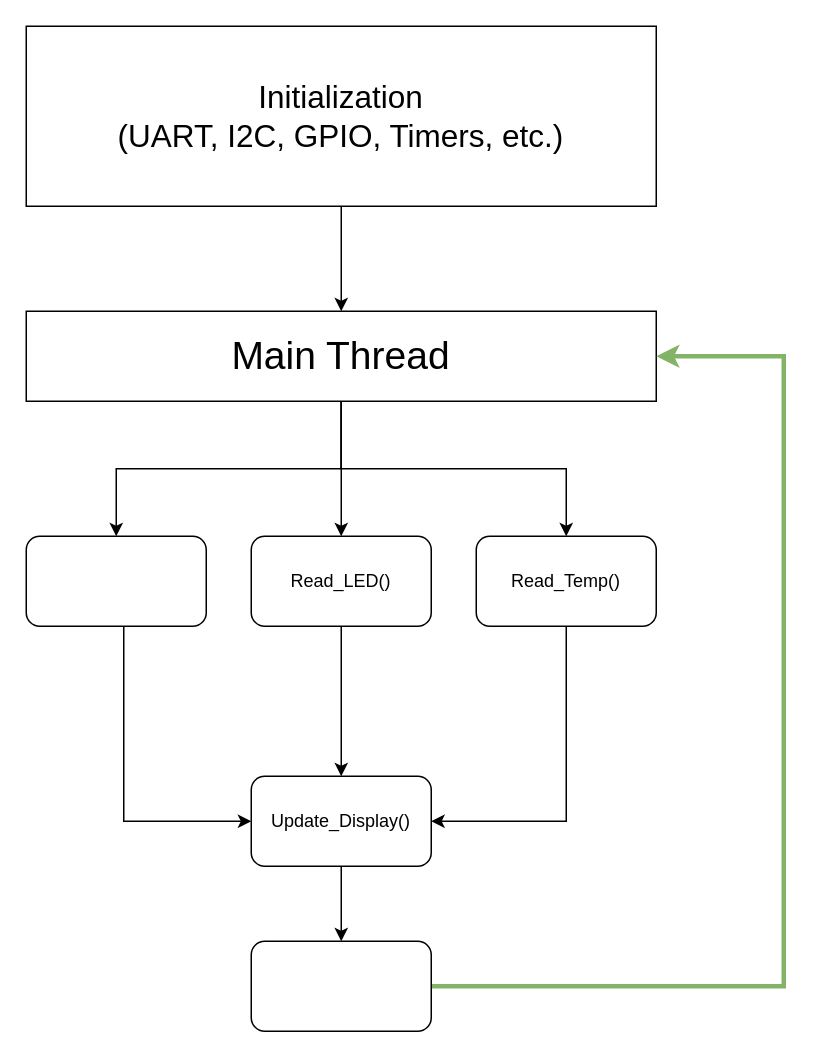
This 824x1058 diagram has some shape labels left out. Each missing label, with the box of its shape:
Increment Timers: (250, 940, 431, 1031)
Read_Button(): (25, 535, 206, 626)
